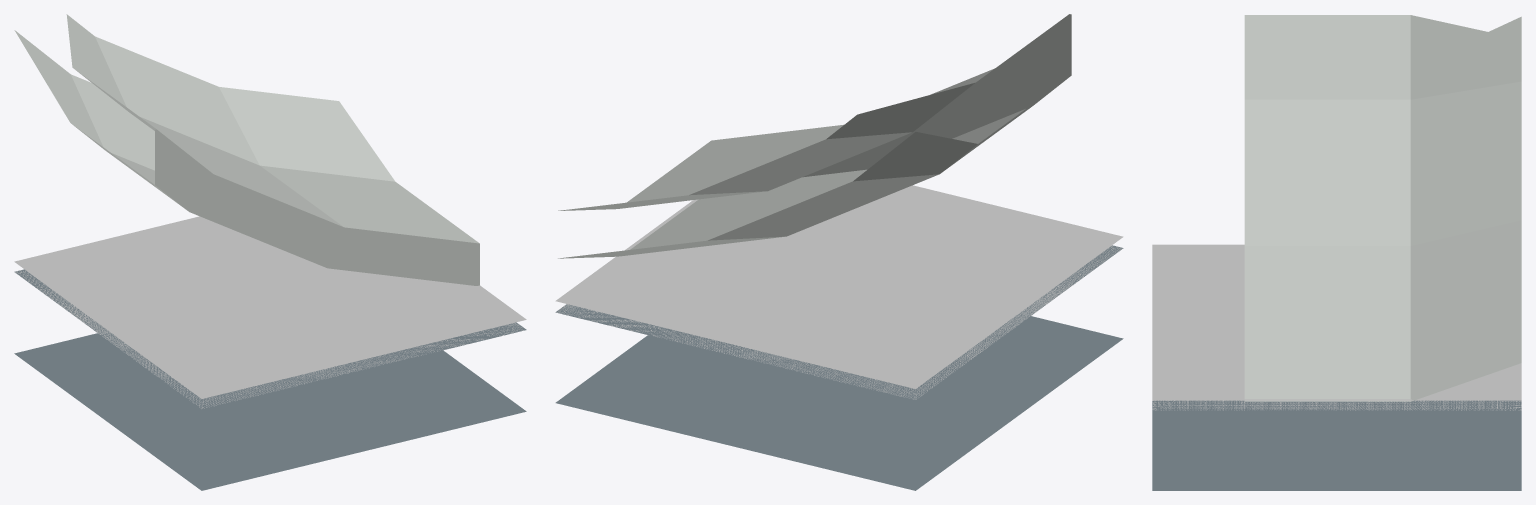
The model's file is cell_37.obj.
3 views of the same model, side by side, from view 1: azimuth 30°, elevation 25°; view 2: azimuth 150°, elevation 25°; view 3: azimuth 270°, elevation 25° (orthographic). The views are drawn at different scales.
Size of the model in its own units: 1 by 0.96 by 1.
